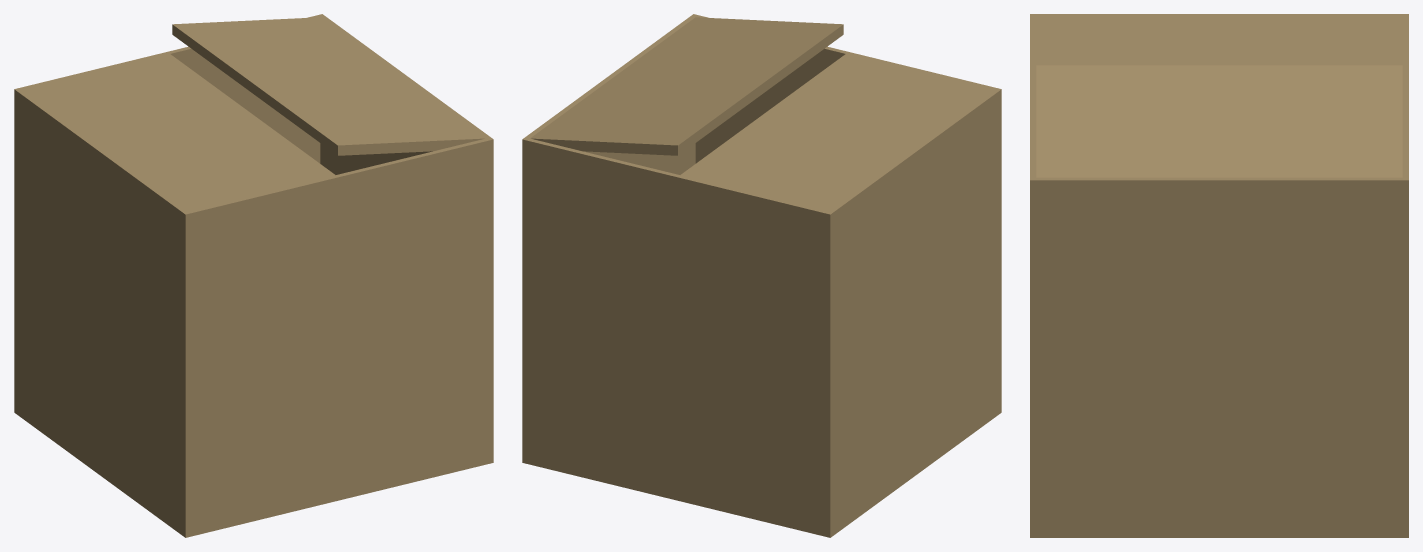
3 views of the same model, side by side, from view 1: azimuth 30°, elevation 25°; view 2: azimuth 150°, elevation 25°; view 3: azimuth 270°, elevation 25° (orthographic). The views are drawn at different scales.
Visible parts, largest first — view 1: pCube1; view 2: pCube1; view 3: pCube1.
Part boxes in pixels (x1,y1,x2,y2): pCube1: (14, 14, 493, 537); pCube1: (522, 14, 1001, 537); pCube1: (1030, 14, 1408, 537).
Size of the model in its own units: 6.24 by 6.82 by 6.01.
